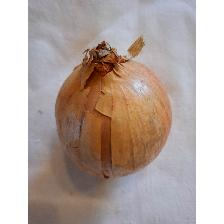Zwiebel: (53, 35, 175, 183)
